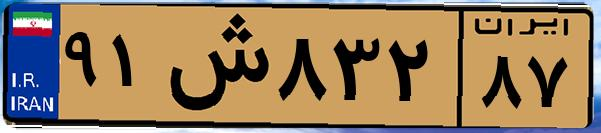1: (110, 28, 158, 98)
2: (385, 28, 445, 110)
3: (330, 28, 385, 110)
7: (525, 38, 570, 115)
8: (270, 28, 330, 110), (475, 38, 525, 113)
9: (57, 26, 110, 100)
ش: (158, 12, 270, 120)
